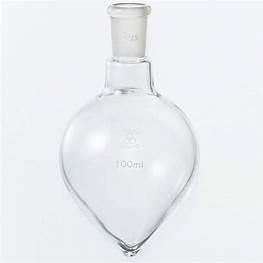Pear shaped flask: (53, 4, 197, 252)
